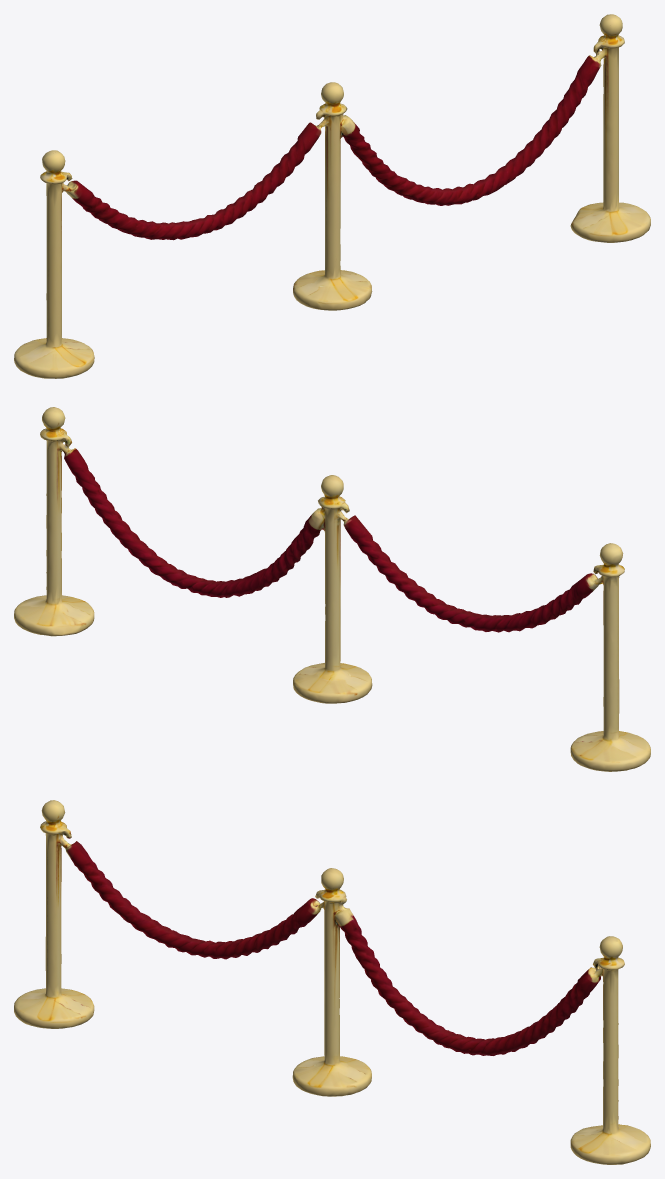
3 renders of one model, top to bottom at view 1: azimuth 30°, elevation 25°; view 2: azimuth 150°, elevation 25°; view 3: azimuth 330°, elevation 25°, orthographic.
Visible parts, largest first — view 1: node_bdff5ade_1ed6_499f_be00_d02ce0a27ade_mesh0; view 2: node_bdff5ade_1ed6_499f_be00_d02ce0a27ade_mesh0; view 3: node_bdff5ade_1ed6_499f_be00_d02ce0a27ade_mesh0.
Part boxes in pixels (left/top/right/bottom): node_bdff5ade_1ed6_499f_be00_d02ce0a27ade_mesh0: left=14, top=14, right=650, bottom=378; node_bdff5ade_1ed6_499f_be00_d02ce0a27ade_mesh0: left=14, top=407, right=650, bottom=771; node_bdff5ade_1ed6_499f_be00_d02ce0a27ade_mesh0: left=14, top=800, right=650, bottom=1164.
Size of the model in its own units: 192 by 62.07 by 21.12.
1 material, 1 textured.
